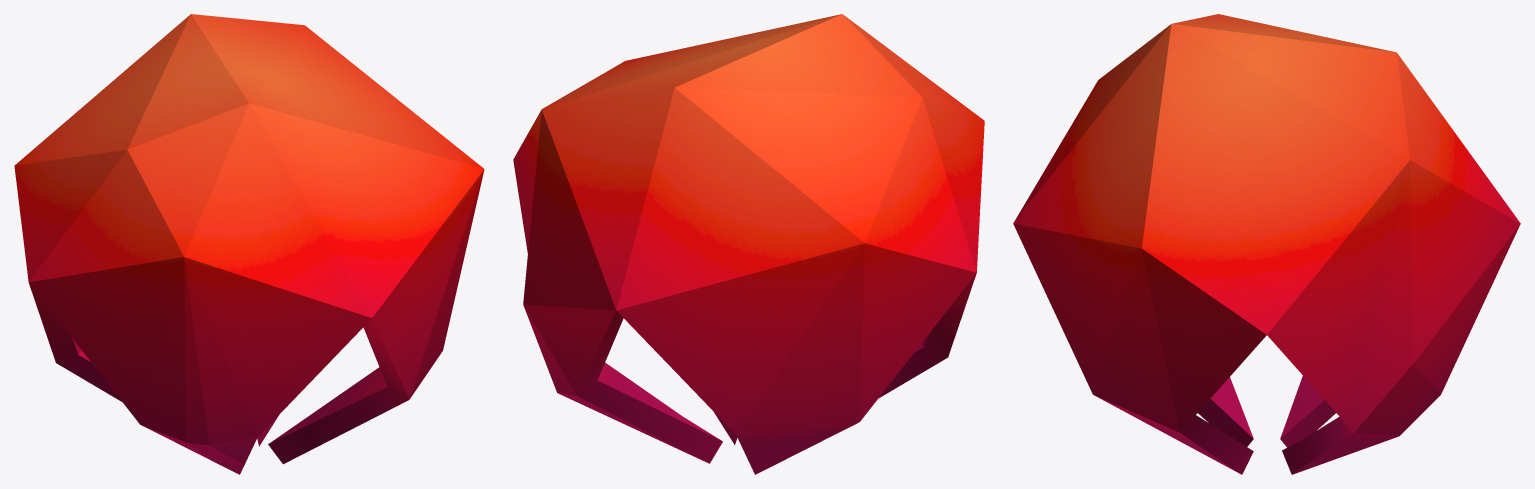
File: itemParachute.FBX
The picture shows the model from 3 angles, left to right: view 1: azimuth 30°, elevation 25°; view 2: azimuth 150°, elevation 25°; view 3: azimuth 270°, elevation 25°; orthographic projection. The views are drawn at different scales.
Parts seen in each view (by area): view 1: parachute; view 2: parachute; view 3: parachute.
Boxes of the visible parts, x1,y1,x2,y2 form: parachute: (14,14,484,474); parachute: (513,14,984,474); parachute: (1013,14,1520,474).
Size of the model in its own units: 5.39 by 4.7 by 5.19.
1 material, 1 textured.
